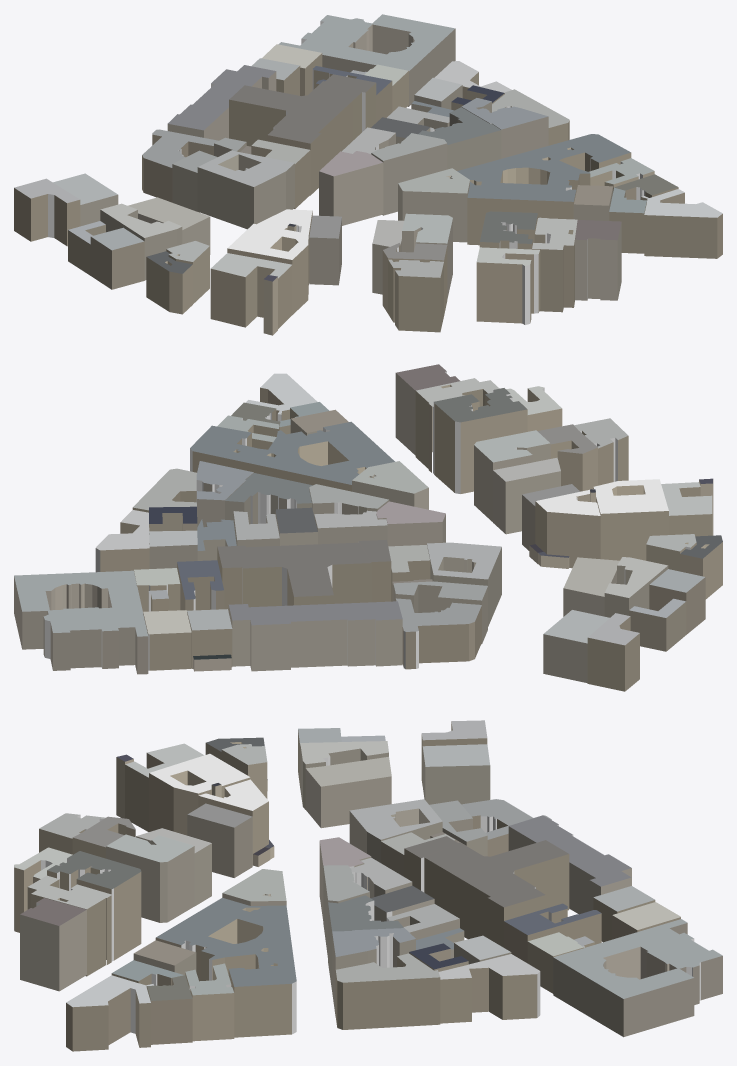
3 renders of one model, top to bottom at view 1: azimuth 30°, elevation 25°; view 2: azimuth 150°, elevation 25°; view 3: azimuth 270°, elevation 25°, orthographic. The views are drawn at different scales.
Parts seen in each view (by area): view 1: tuile; view 2: tuile; view 3: tuile.
Part boxes in pixels (x1=…): tuile: x1=14, y1=14, x2=722, y2=335; tuile: x1=14, y1=364, x2=722, y2=691; tuile: x1=14, y1=720, x2=722, y2=1051.
Size of the model in its own units: 254 by 32.42 by 278.
